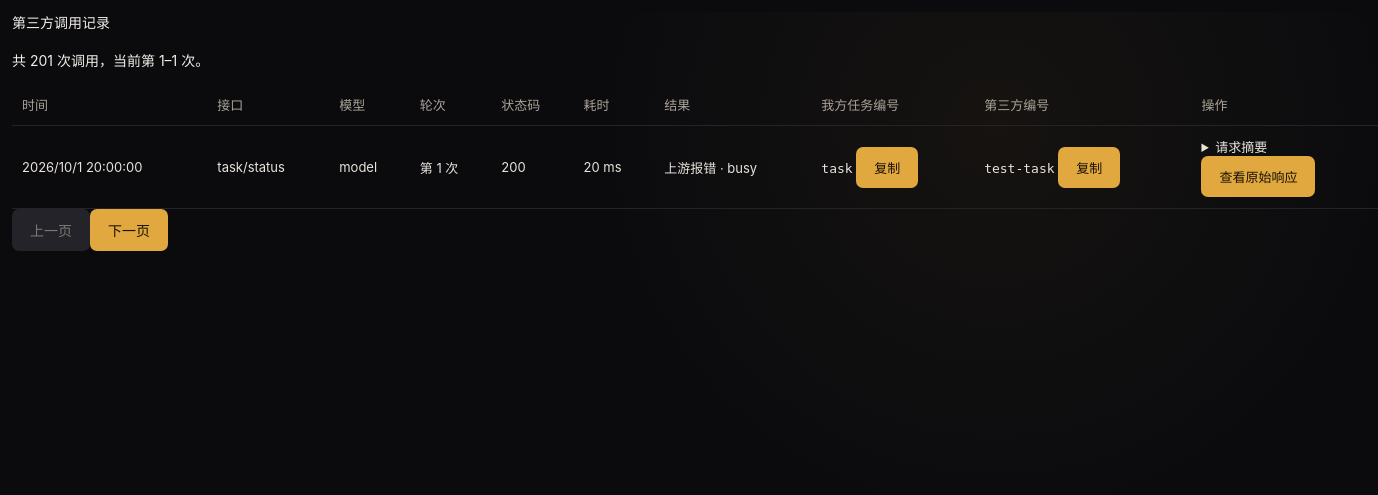
Scenario: 权限降为审计员立即撤下已读取正文并使旧请求失效
The width and height of the screenshot is (1378, 495).
What coordinates should you click on to do the following:
click the button with aria-label "查看调用 first 的原始响应"
I would click on:
 (1258, 177)
Its box is [1201,156,1315,197].
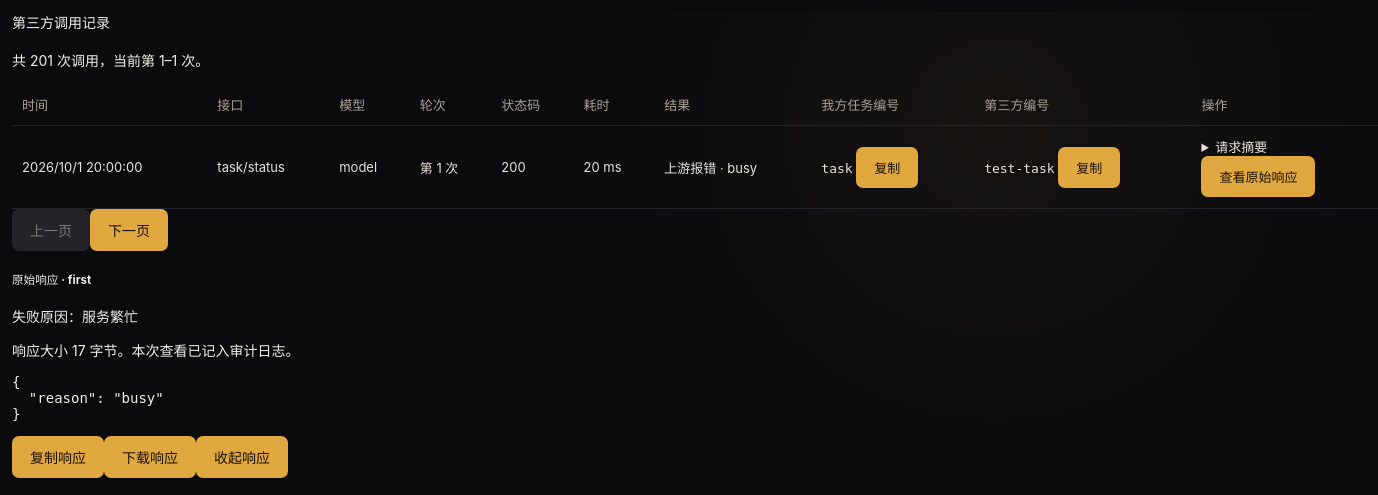
Check: the text "{ \"reason\": \"busy\" }" is shown, box [12,374,164,422]
